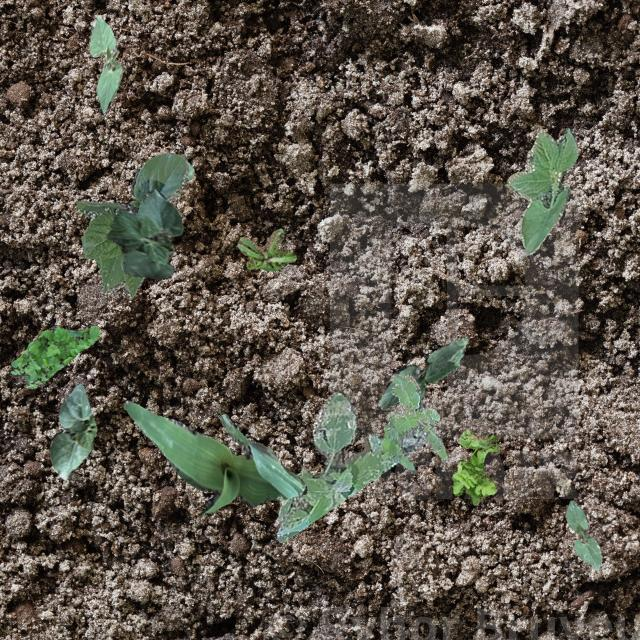crop: (122, 400, 306, 516), (76, 152, 188, 298), (504, 128, 578, 254), (106, 188, 182, 278), (378, 337, 466, 408), (48, 382, 96, 481), (88, 15, 121, 111), (564, 500, 600, 570), (165, 160, 192, 200)
weed: (274, 392, 426, 542), (379, 374, 446, 472), (8, 323, 98, 388), (450, 428, 498, 504), (236, 228, 296, 270)
